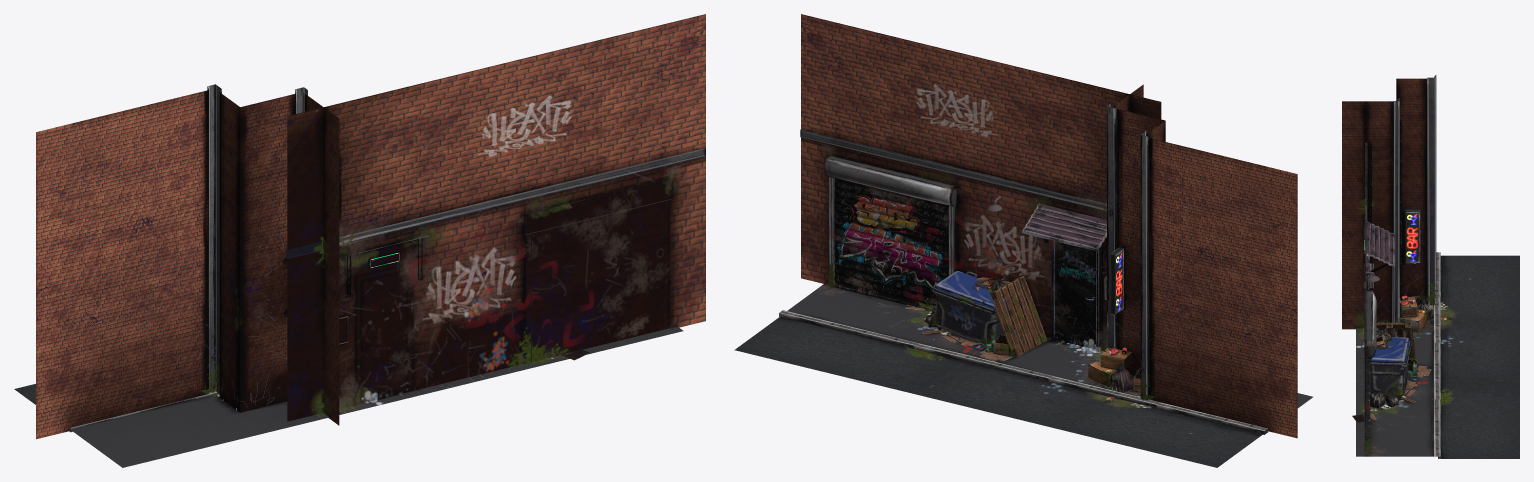
The model's file is dirty_street.glb.
The picture shows the model from 3 angles, left to right: view 1: azimuth 30°, elevation 25°; view 2: azimuth 150°, elevation 25°; view 3: azimuth 270°, elevation 25°; orthographic projection. The views are drawn at different scales.
Visible parts, largest first — view 1: Plane.008; view 2: Plane.008; view 3: Plane.008.
Part boxes in pixels (left/top/right/bottom): Plane.008: left=14, top=14, right=705, bottom=467; Plane.008: left=734, top=14, right=1312, bottom=467; Plane.008: left=1342, top=75, right=1519, bottom=458.
Bounding box in the file's own units: 8.26 × 3.96 × 2.75.
2 materials, 2 textured.
